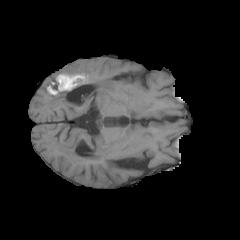glioma: (46, 63, 91, 164)
